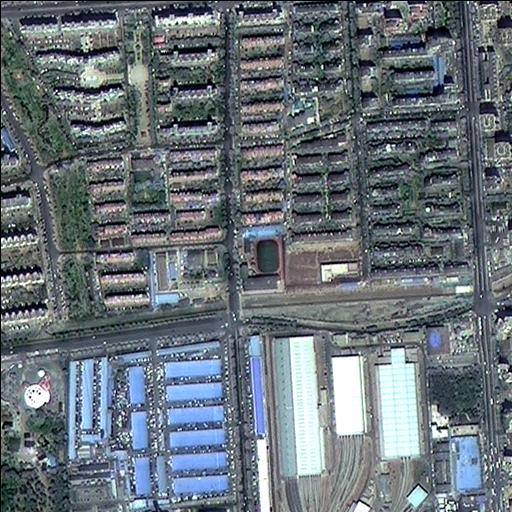school: (237, 225, 283, 295)
